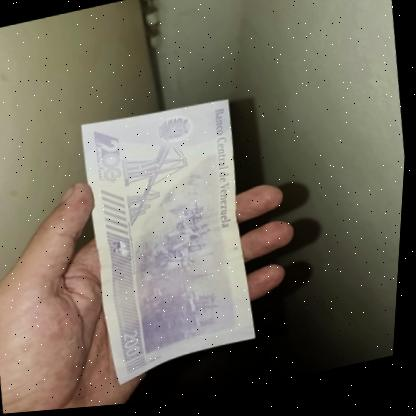two_hundred-back-vef: (68, 91, 274, 395)
